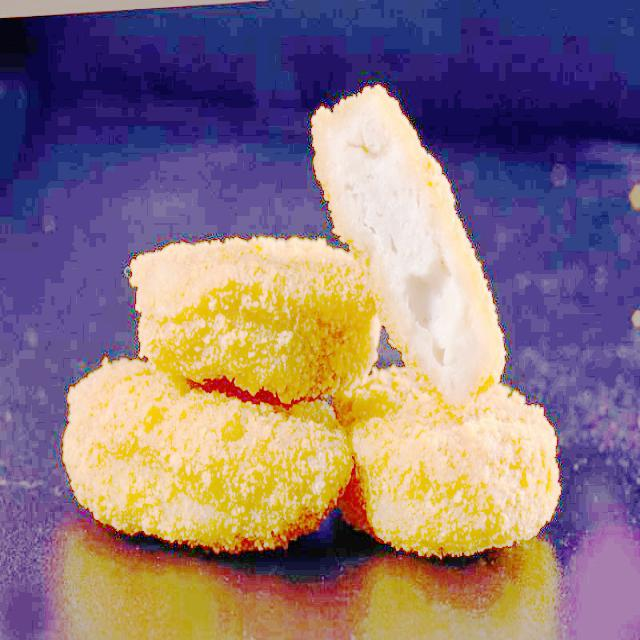chicken_nuggets: (66, 87, 560, 553)
